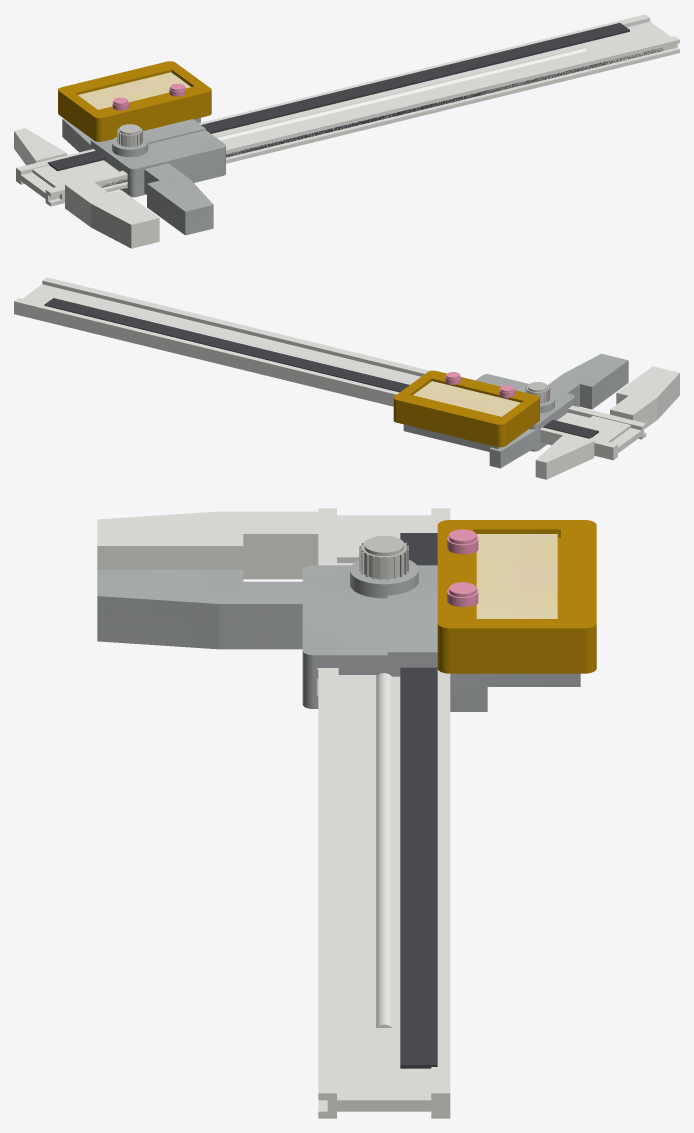
File: Handtools_dial_caliper__0012.glb
3 views of the same model, one above another, from view 1: azimuth 30°, elevation 25°; view 2: azimuth 150°, elevation 25°; view 3: azimuth 270°, elevation 25° (orthographic). The views are drawn at different scales.
Parts seen in each view (by area): view 1: beam::beam_body, slider::slider_body, slider::lcd_housing, beam::fixed_jaw, beam::beam_scale, slider::depth_rod, beam::guide_rail_mark, slider::lcd_screen, lock_screw::lock_screw_head, slider::lock_screw_boss; view 2: beam::beam_body, slider::lcd_housing, slider::slider_body, beam::fixed_jaw, beam::beam_scale, slider::lcd_screen, slider::depth_rod, lock_screw::lock_screw_head; view 3: beam::beam_body, slider::slider_body, slider::lcd_housing, beam::beam_scale, beam::fixed_jaw, slider::lcd_screen, slider::depth_rod, lock_screw::lock_screw_head, slider::lock_screw_boss.
Part boxes in pixels (left/top/right/bottom): beam::beam_body: left=16, top=14, right=679, bottom=206; slider::slider_body: left=62, top=118, right=225, bottom=235; slider::lcd_housing: left=58, top=61, right=211, bottom=141; beam::fixed_jaw: left=14, top=128, right=159, bottom=248; beam::beam_scale: left=47, top=23, right=629, bottom=171; slider::depth_rod: left=216, top=47, right=586, bottom=140; beam::guide_rail_mark: left=102, top=48, right=663, bottom=187; slider::lcd_screen: left=78, top=72, right=190, bottom=109; lock_screw::lock_screw_head: left=117, top=124, right=142, bottom=147; slider::lock_screw_boss: left=112, top=137, right=147, bottom=156; beam::beam_body: left=14, top=277, right=646, bottom=460; slider::lcd_housing: left=393, top=370, right=539, bottom=447; slider::slider_body: left=403, top=353, right=628, bottom=468; beam::fixed_jaw: left=535, top=366, right=679, bottom=479; beam::beam_scale: left=44, top=298, right=598, bottom=438; slider::lcd_screen: left=413, top=381, right=520, bottom=416; slider::depth_rod: left=104, top=309, right=411, bottom=384; lock_screw::lock_screw_head: left=525, top=382, right=550, bottom=403; beam::beam_body: left=318, top=508, right=450, bottom=1118; slider::slider_body: left=97, top=565, right=580, bottom=711; slider::lcd_housing: left=437, top=520, right=596, bottom=673; beam::beam_scale: left=400, top=533, right=437, bottom=1068; beam::fixed_jaw: left=97, top=511, right=431, bottom=579; slider::lcd_screen: left=476, top=534, right=557, bottom=618; slider::depth_rod: left=376, top=673, right=391, bottom=1027; lock_screw::lock_screw_head: left=359, top=535, right=408, bottom=580; slider::lock_screw_boss: left=350, top=560, right=418, bottom=598.
Bounding box in the file's own units: 0.2214 × 0.0204 × 0.0798.
Materials: 9 (3 with a texture image).
